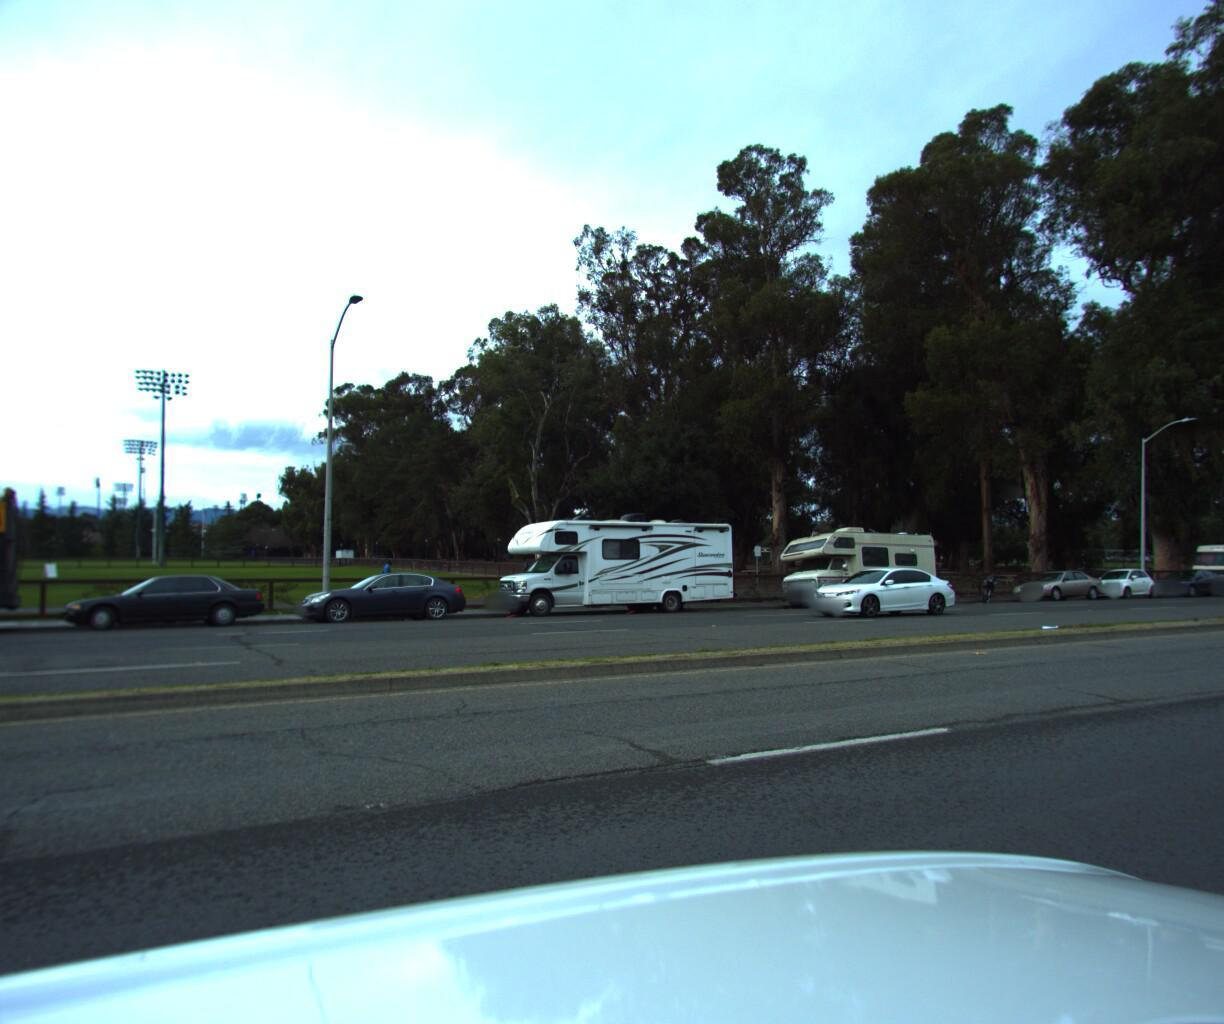car: (60, 569, 271, 642), (292, 567, 474, 629), (799, 559, 970, 613), (1001, 565, 1105, 601), (1137, 562, 1224, 597), (1076, 560, 1158, 597)
motorcycle: (972, 565, 1000, 601)
other_vehicle: (488, 500, 747, 627), (763, 518, 943, 608), (1176, 530, 1224, 592)
